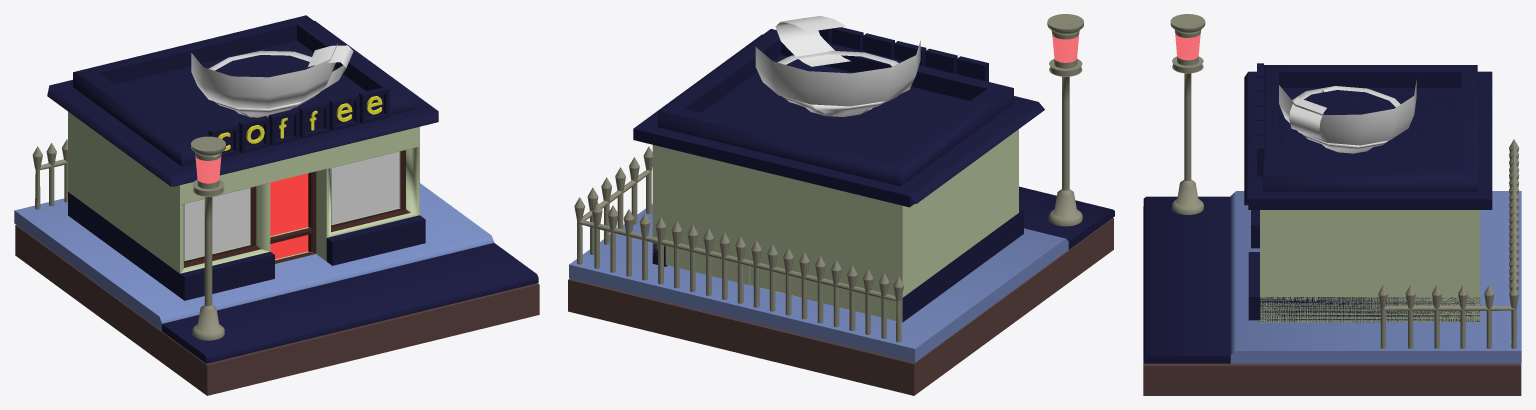
3 views of the same model, side by side, from view 1: azimuth 30°, elevation 25°; view 2: azimuth 150°, elevation 25°; view 3: azimuth 270°, elevation 25° (orthographic). The views are drawn at different scales.
Visible parts, largest first — view 1: Plane.005, Plane.004, Plane, Plane.002, Plane.001, Plane.019, Plane.007, Plane.010, Circle, Plane.008, Plane.009, Plane.015 (+6 smaller); view 2: Plane.005, Plane.004, Plane, Plane.001, Plane.009, Plane.010, Circle, Plane.019, Plane.002, Plane.003, Plane.011, Plane.013 (+3 smaller); view 3: Plane.005, Plane.004, Plane.001, Plane.002, Plane, Plane.019, Plane.009, Plane.010, Circle, Plane.003.
Part boxes in pixels (bbox=[...]): Plane.005: bbox=[47, 15, 438, 186]; Plane.004: bbox=[68, 111, 419, 273]; Plane: bbox=[15, 225, 539, 395]; Plane.002: bbox=[162, 243, 538, 363]; Plane.001: bbox=[14, 183, 494, 330]; Plane.019: bbox=[68, 192, 425, 300]; Plane.007: bbox=[184, 151, 399, 260]; Plane.010: bbox=[191, 43, 337, 117]; Circle: bbox=[191, 136, 225, 340]; Plane.008: bbox=[270, 173, 308, 259]; Plane.009: bbox=[32, 139, 67, 209]; Plane.015: bbox=[299, 101, 329, 138]; Plane.005: bbox=[633, 29, 1044, 207]; Plane.004: bbox=[652, 129, 1018, 322]; Plane: bbox=[568, 218, 1113, 395]; Plane.001: bbox=[569, 203, 1068, 362]; Plane.009: bbox=[574, 146, 903, 342]; Plane.010: bbox=[755, 40, 920, 116]; Circle: bbox=[1047, 14, 1083, 226]; Plane.019: bbox=[652, 208, 1023, 322]; Plane.002: bbox=[1019, 186, 1114, 249]; Plane.003: bbox=[775, 16, 850, 66]; Plane.011: bbox=[956, 56, 988, 81]; Plane.013: bbox=[925, 48, 957, 73]; Plane.005: bbox=[1244, 65, 1492, 209]; Plane.004: bbox=[1260, 210, 1480, 322]; Plane.001: bbox=[1230, 191, 1521, 363]; Plane.002: bbox=[1143, 196, 1230, 363]; Plane: bbox=[1143, 206, 1521, 395]; Plane.019: bbox=[1248, 210, 1480, 322]; Plane.009: bbox=[1378, 139, 1519, 348]; Plane.010: bbox=[1279, 80, 1416, 153]; Circle: bbox=[1170, 14, 1205, 214]; Plane.003: bbox=[1289, 97, 1326, 139].
Size of what is drawn, in the model's own units: 8.02 by 5.44 by 8.
